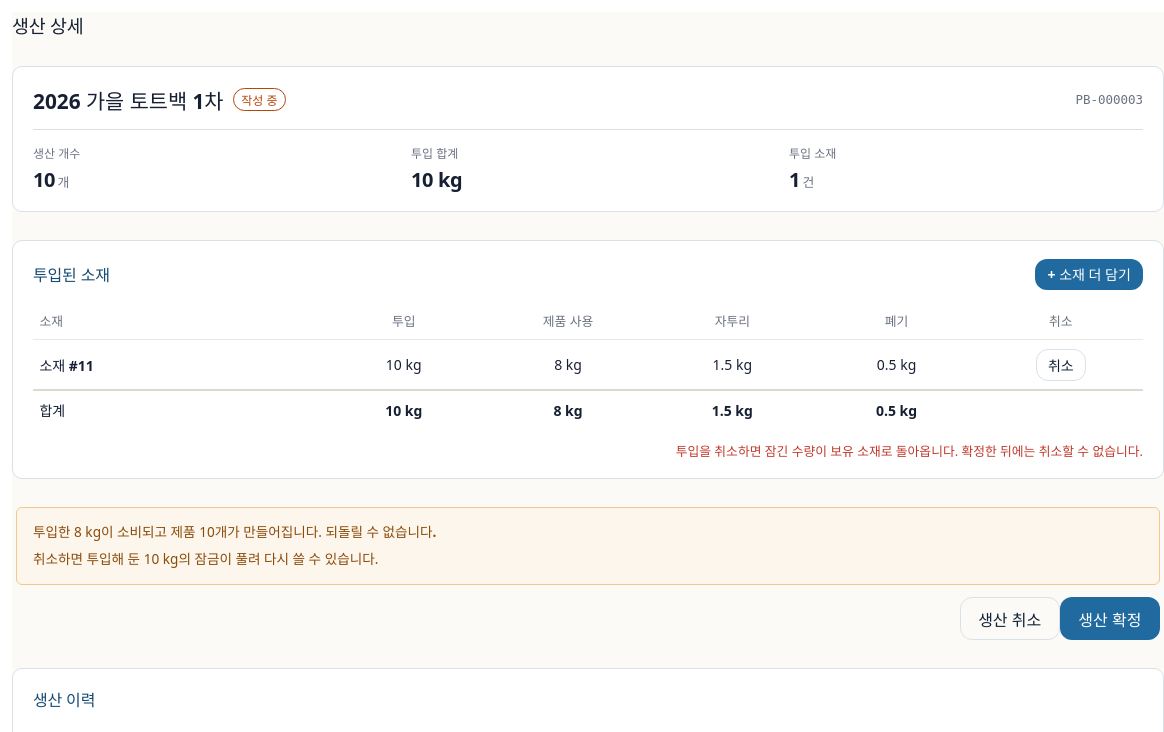
Test: ProductionBatchDetail › 확정 후에도 담긴 투입이 화면에 남는다
The image size is (1164, 732).
Click the button "생산 확정".
click(1110, 619)  # box [1060,597,1160,640]
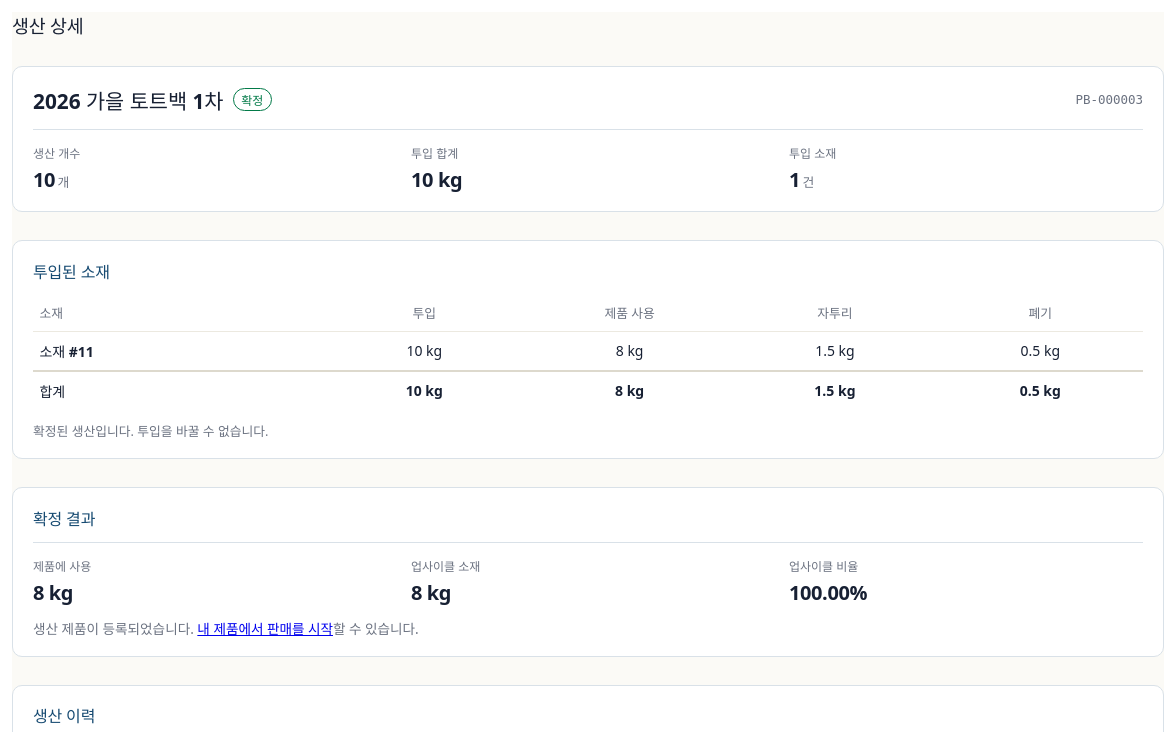
Result: the heading "확정 결과" is shown at [33,508,95,530]
